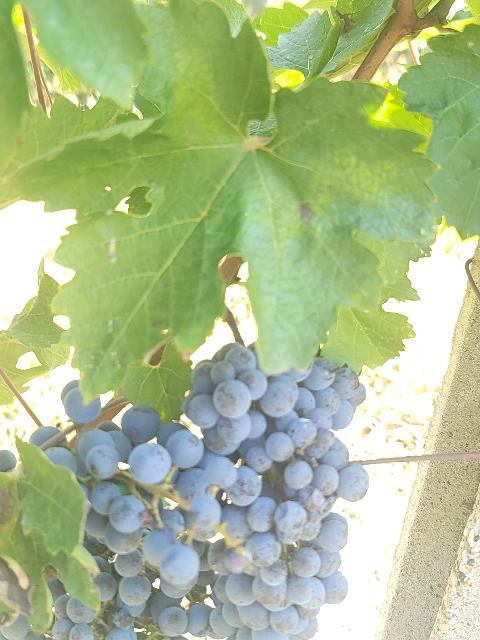grapes: (184, 344, 369, 640), (0, 405, 216, 640)
